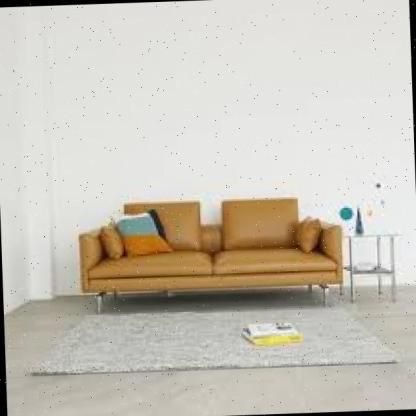Sofa: (58, 164, 349, 332)
